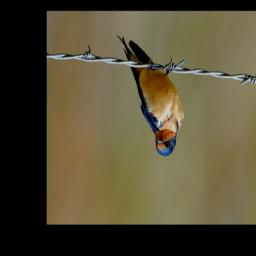Swallow: (117, 35, 185, 157)
